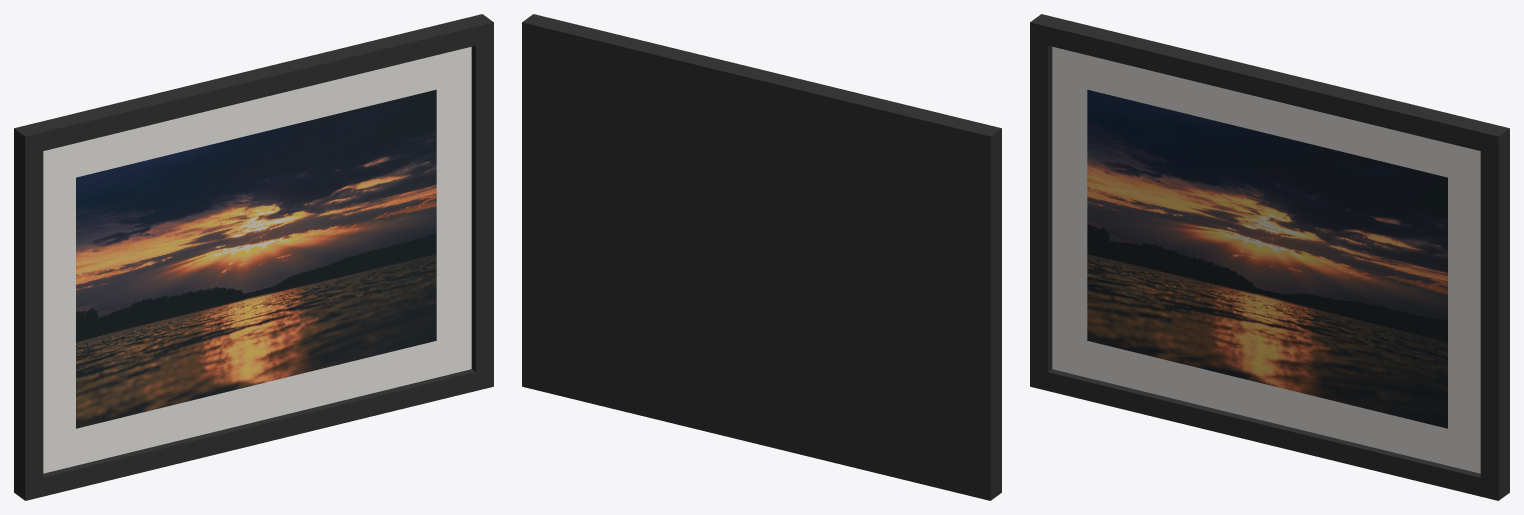
File: solnedgangen-40.gltf
The picture shows the model from 3 angles, left to right: view 1: azimuth 30°, elevation 25°; view 2: azimuth 150°, elevation 25°; view 3: azimuth 330°, elevation 25°; orthographic projection.
Parts seen in each view (by area): view 1: tavla; view 2: tavla; view 3: tavla.
Boxes of the visible parts, box(x1,y1,x2,y2) form: tavla: box(14, 14, 493, 500); tavla: box(522, 14, 1001, 500); tavla: box(1030, 14, 1509, 500).
Bounding box in the file's own units: 0.52 × 0.3864 × 0.022.
Materials: 3 (1 with a texture image).
